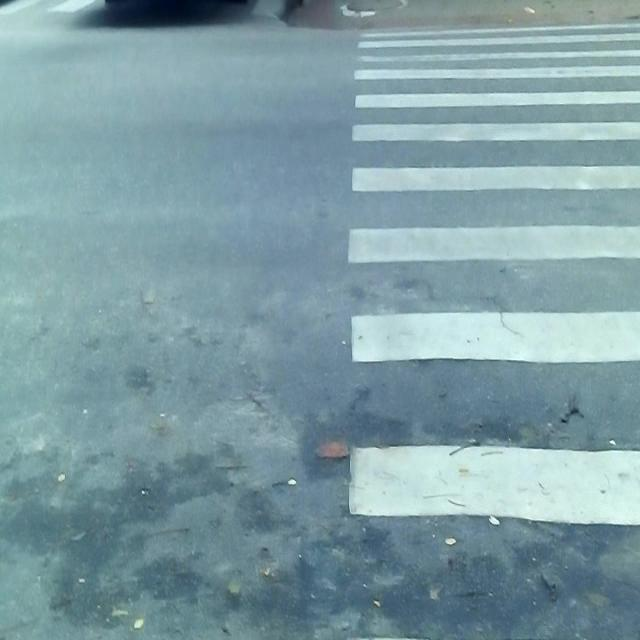crosswalk: (349, 20, 640, 525)
